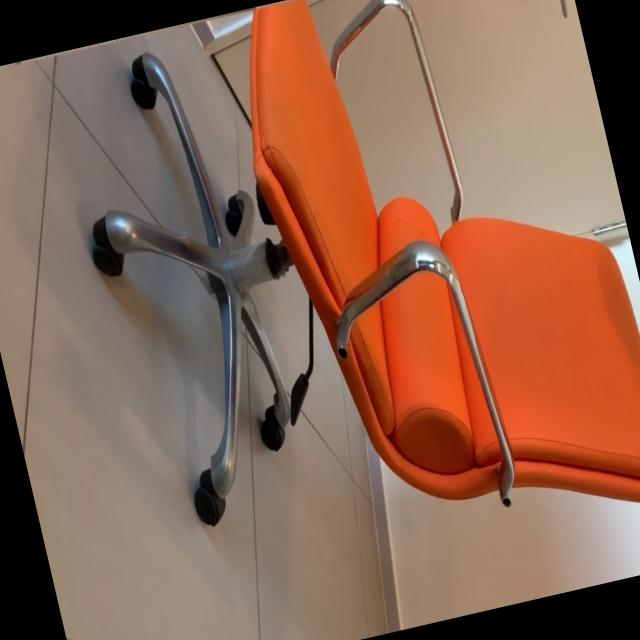Chair: (41, 0, 640, 627)
